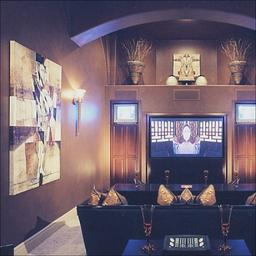Electrodomestico: (147, 111, 227, 178)
Puerta: (109, 100, 141, 182), (233, 100, 254, 181)
